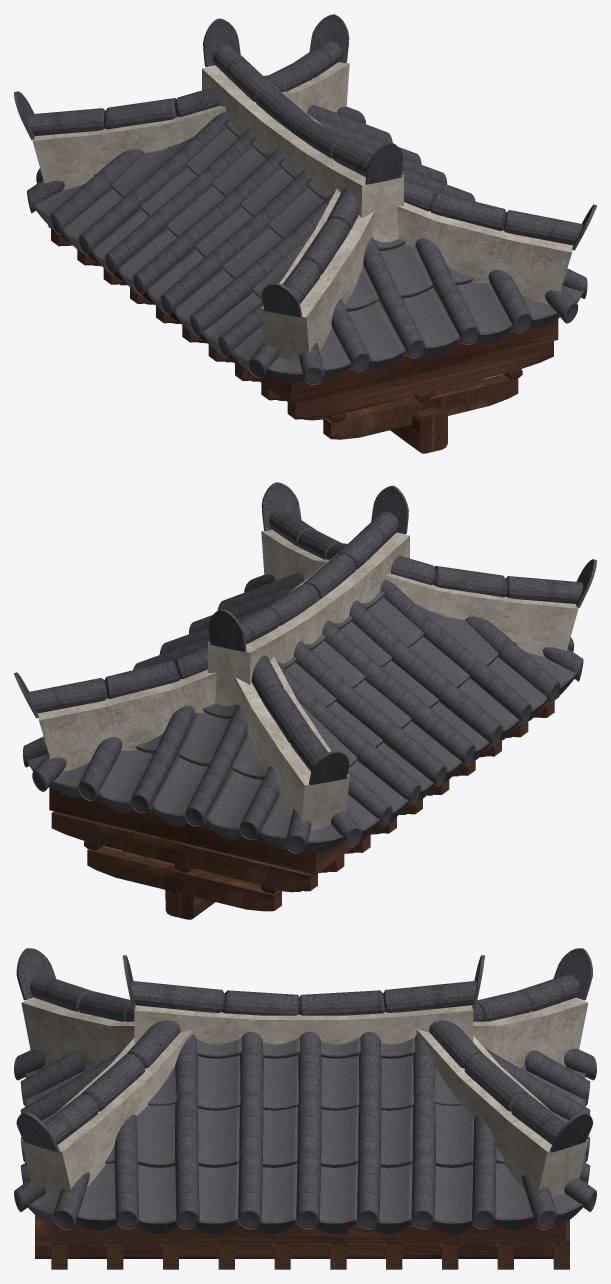
The model's file is SM_R_GateWooden.fbx.
3 renders of one model, top to bottom at view 1: azimuth 30°, elevation 25°; view 2: azimuth 150°, elevation 25°; view 3: azimuth 270°, elevation 25°, orthographic. The views are drawn at different scales.
Parts seen in each view (by area): view 1: SM_R_GateWooden; view 2: SM_R_GateWooden; view 3: SM_R_GateWooden.
Part boxes in pixels (x1,y1,x2,y2): SM_R_GateWooden: [14, 14, 596, 453]; SM_R_GateWooden: [14, 482, 596, 919]; SM_R_GateWooden: [14, 948, 596, 1269].
Size of the model in its own units: 264 by 374 by 209.
4 materials, 4 textured.
